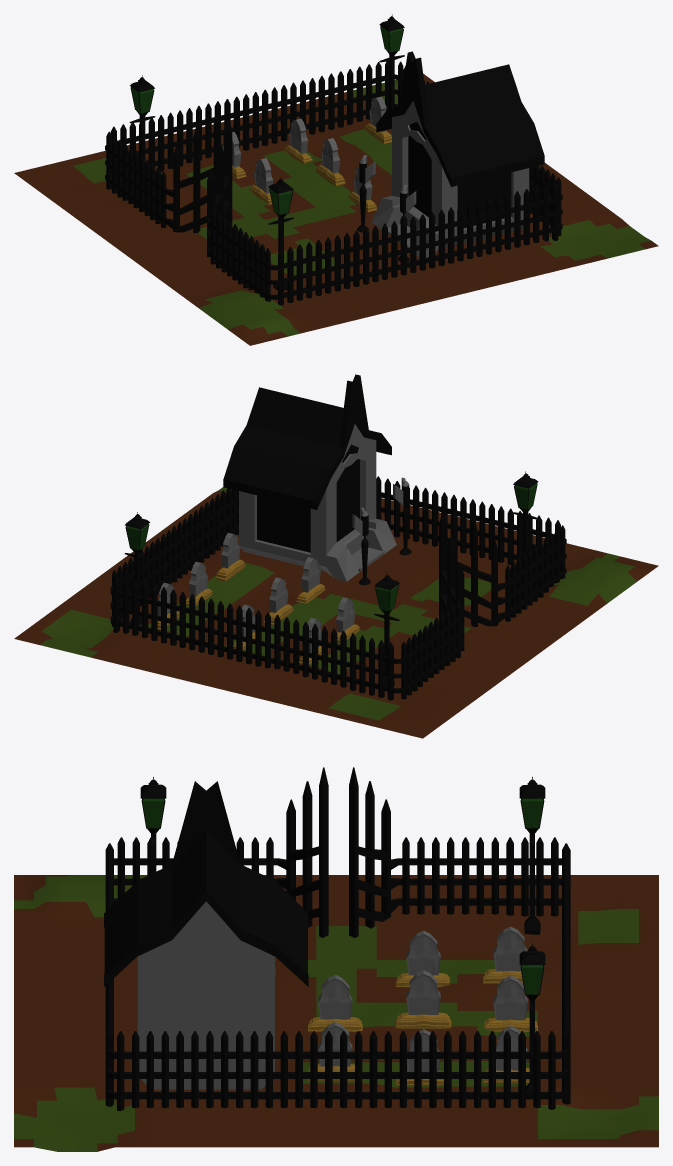
Rendered from Cemetary.fbx.
3 renders of one model, top to bottom at view 1: azimuth 30°, elevation 25°; view 2: azimuth 150°, elevation 25°; view 3: azimuth 270°, elevation 25°, orthographic. The views are drawn at different scales.
Parts seen in each view (by area): view 1: Grave Yard; view 2: Grave Yard; view 3: Grave Yard.
Boxes of the visible parts, x1=… form: Grave Yard: x1=14, y1=14, x2=658, y2=345; Grave Yard: x1=14, y1=374, x2=658, y2=738; Grave Yard: x1=14, y1=767, x2=658, y2=1151.
Size of the model in its own units: 1008 by 445 by 1005.
